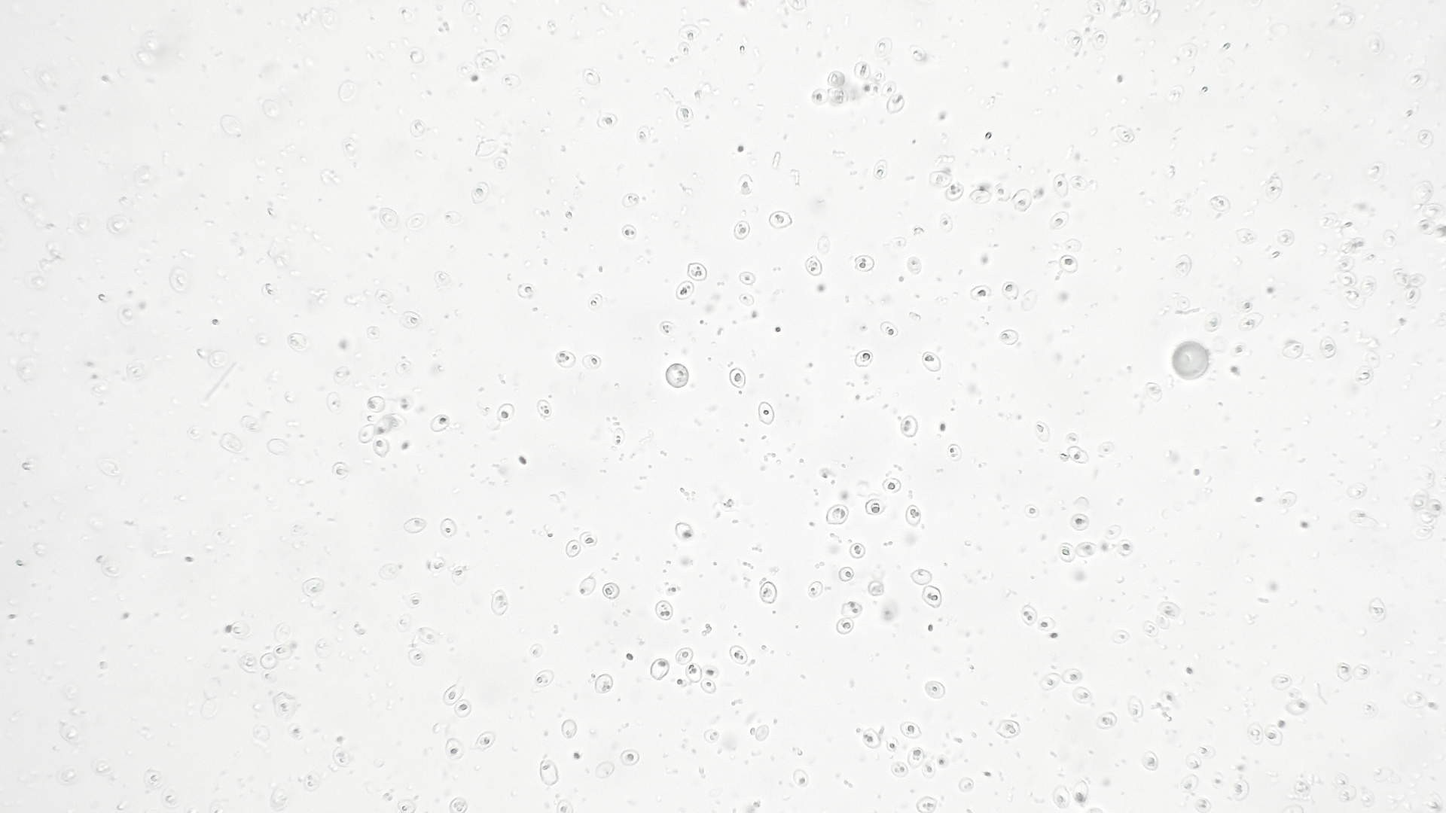yeast: (532, 757, 567, 789), (489, 13, 519, 44), (1278, 339, 1311, 367), (523, 667, 558, 693), (1262, 172, 1289, 205), (1401, 67, 1434, 93), (1397, 687, 1429, 713), (1111, 122, 1143, 148), (673, 518, 699, 550), (468, 178, 493, 209), (299, 575, 331, 599), (531, 397, 558, 425), (765, 207, 793, 234), (1341, 481, 1370, 507), (1409, 177, 1435, 206), (1064, 445, 1094, 470), (1349, 363, 1379, 388), (1362, 29, 1387, 59), (377, 203, 402, 233), (917, 348, 944, 375), (921, 677, 950, 702), (284, 330, 313, 355), (920, 583, 944, 613), (823, 501, 850, 527), (371, 434, 397, 461), (139, 766, 165, 793), (756, 399, 780, 428), (860, 496, 889, 520), (1091, 708, 1120, 732), (1048, 782, 1072, 811), (441, 734, 465, 763), (870, 32, 893, 62), (1231, 225, 1261, 248), (1011, 184, 1033, 215), (849, 250, 875, 276), (646, 657, 673, 682), (590, 671, 617, 696), (471, 726, 496, 753), (725, 365, 749, 393), (992, 717, 1020, 741), (1153, 598, 1181, 622), (1137, 745, 1161, 773), (1237, 309, 1265, 333), (878, 473, 907, 496), (860, 723, 883, 752), (1122, 693, 1143, 724), (909, 563, 935, 588), (1067, 510, 1093, 535), (905, 39, 930, 65), (1316, 335, 1341, 361), (1261, 721, 1285, 748), (489, 586, 508, 620), (903, 502, 926, 530), (897, 717, 926, 739), (557, 714, 579, 743), (898, 412, 919, 442), (727, 643, 752, 668), (1208, 190, 1233, 215), (685, 261, 711, 285), (966, 282, 993, 305), (1063, 26, 1086, 53), (353, 421, 376, 448), (523, 637, 545, 665), (398, 309, 426, 331), (668, 102, 697, 123), (615, 747, 645, 767), (440, 681, 465, 705), (1200, 309, 1225, 333), (1362, 160, 1386, 185), (652, 598, 675, 624), (328, 363, 355, 385), (1243, 720, 1264, 748), (1353, 656, 1374, 684), (593, 109, 621, 130), (837, 600, 866, 620), (1174, 253, 1194, 282), (909, 795, 941, 813), (672, 644, 695, 669), (654, 317, 679, 340), (967, 183, 992, 206), (404, 211, 429, 234), (331, 746, 356, 769), (997, 327, 1023, 349), (885, 91, 907, 117), (831, 616, 858, 637), (1071, 538, 1098, 559), (324, 388, 345, 415), (1072, 776, 1089, 809), (1360, 268, 1376, 303), (852, 346, 875, 370), (1230, 777, 1253, 801), (734, 172, 757, 196), (1178, 772, 1203, 794), (868, 155, 889, 181), (850, 58, 871, 84), (1034, 671, 1061, 691), (1331, 660, 1351, 687), (400, 513, 427, 533), (405, 646, 425, 673), (1030, 420, 1053, 443), (789, 766, 811, 790), (514, 279, 538, 301), (1274, 224, 1296, 248), (1091, 28, 1113, 52), (1378, 224, 1400, 248), (330, 458, 352, 482), (551, 349, 576, 370), (1051, 172, 1069, 201), (1018, 601, 1038, 627), (1342, 287, 1362, 313), (759, 579, 778, 606), (443, 794, 470, 813), (270, 643, 300, 660), (803, 254, 825, 277), (599, 581, 621, 604), (584, 289, 606, 312), (902, 254, 924, 277), (929, 165, 951, 188), (577, 573, 595, 601), (731, 218, 752, 242), (1402, 285, 1426, 306), (362, 394, 386, 415), (934, 210, 953, 236), (946, 179, 964, 206), (227, 620, 254, 638), (847, 540, 869, 562), (672, 279, 694, 301), (1270, 670, 1292, 692), (1069, 684, 1092, 705), (430, 413, 453, 434), (684, 660, 704, 684), (494, 402, 518, 422), (1048, 209, 1068, 233), (431, 269, 451, 293), (1368, 595, 1385, 623), (1276, 489, 1301, 508), (575, 530, 601, 548), (1332, 269, 1358, 287), (1284, 699, 1313, 715), (1057, 254, 1079, 275), (865, 578, 886, 600), (1055, 540, 1076, 562), (1060, 664, 1081, 686), (633, 123, 654, 145), (805, 86, 826, 108), (876, 318, 899, 338), (562, 538, 582, 561), (618, 222, 638, 245), (736, 268, 759, 288), (499, 72, 526, 89), (1069, 172, 1088, 196), (886, 760, 911, 778), (993, 180, 1010, 206), (1020, 500, 1042, 520), (804, 579, 824, 601), (1110, 627, 1133, 646), (1414, 128, 1435, 148), (621, 190, 641, 211), (998, 282, 1020, 301), (701, 726, 723, 745), (1176, 40, 1198, 59), (579, 352, 602, 370), (735, 291, 758, 309), (1183, 752, 1203, 772), (944, 441, 963, 462), (438, 517, 457, 538), (1140, 616, 1158, 638), (452, 699, 474, 717), (1390, 265, 1407, 288), (955, 777, 979, 793), (407, 118, 425, 139), (1405, 269, 1427, 286), (698, 678, 721, 694), (1335, 255, 1359, 270), (1036, 614, 1056, 631), (1154, 611, 1171, 631), (1190, 796, 1209, 813), (837, 564, 853, 584), (1117, 537, 1133, 557), (882, 79, 896, 101)
